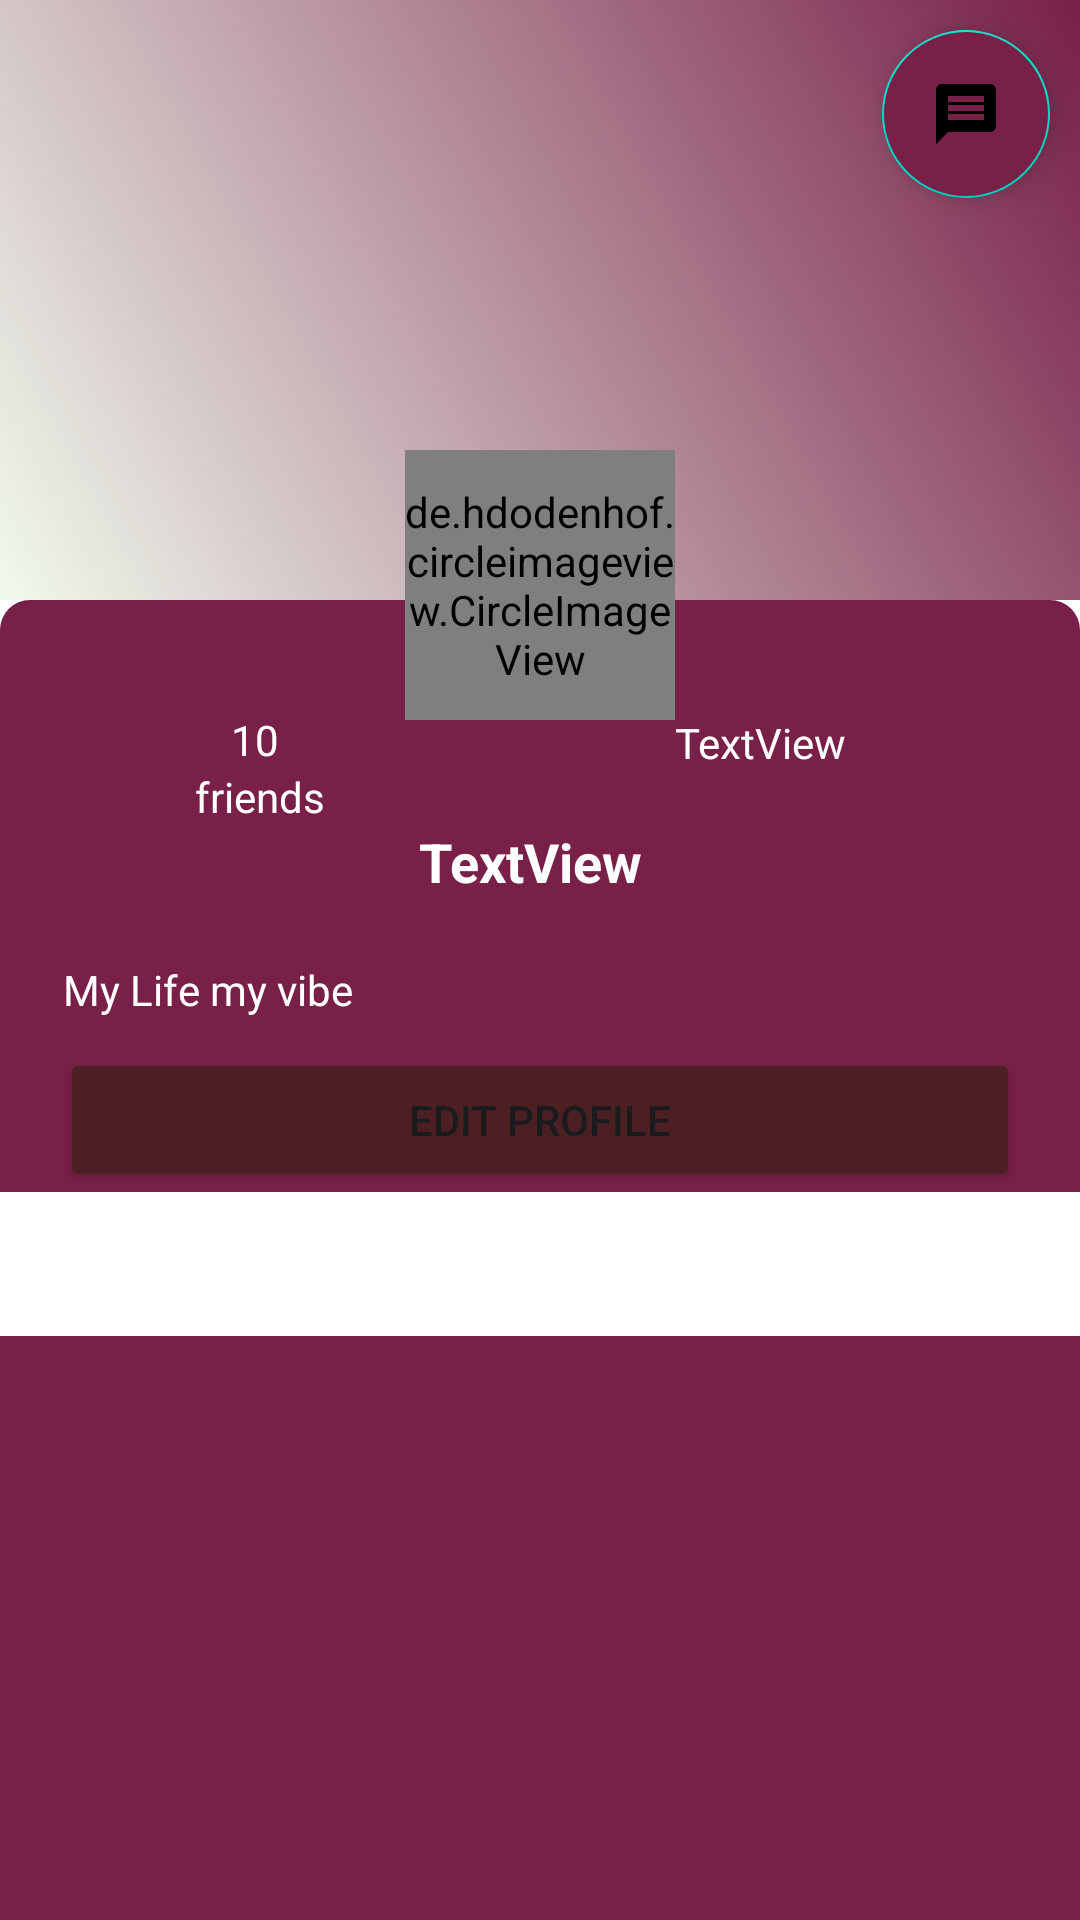

Screen size 1080*1920. Icon name, then its center in pixels as (x,y):
message: (966,114)
